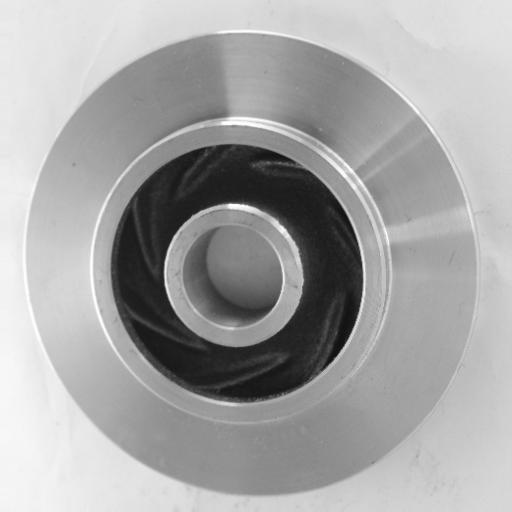polished_casting: (25, 30, 484, 498)
